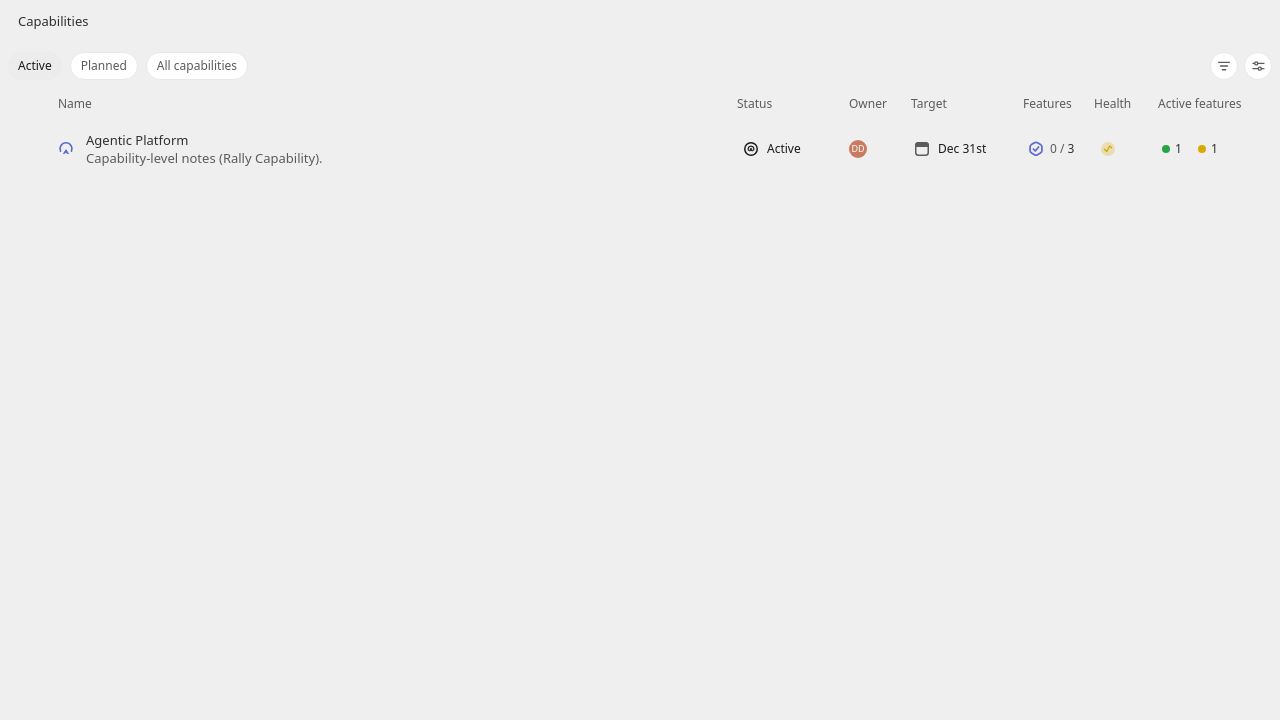
Test: Initiative shows only as this grouping: the same screen fails the scan without allowing it
Click the tab "All capabilities".
click(197, 66)  # box [146, 52, 248, 80]
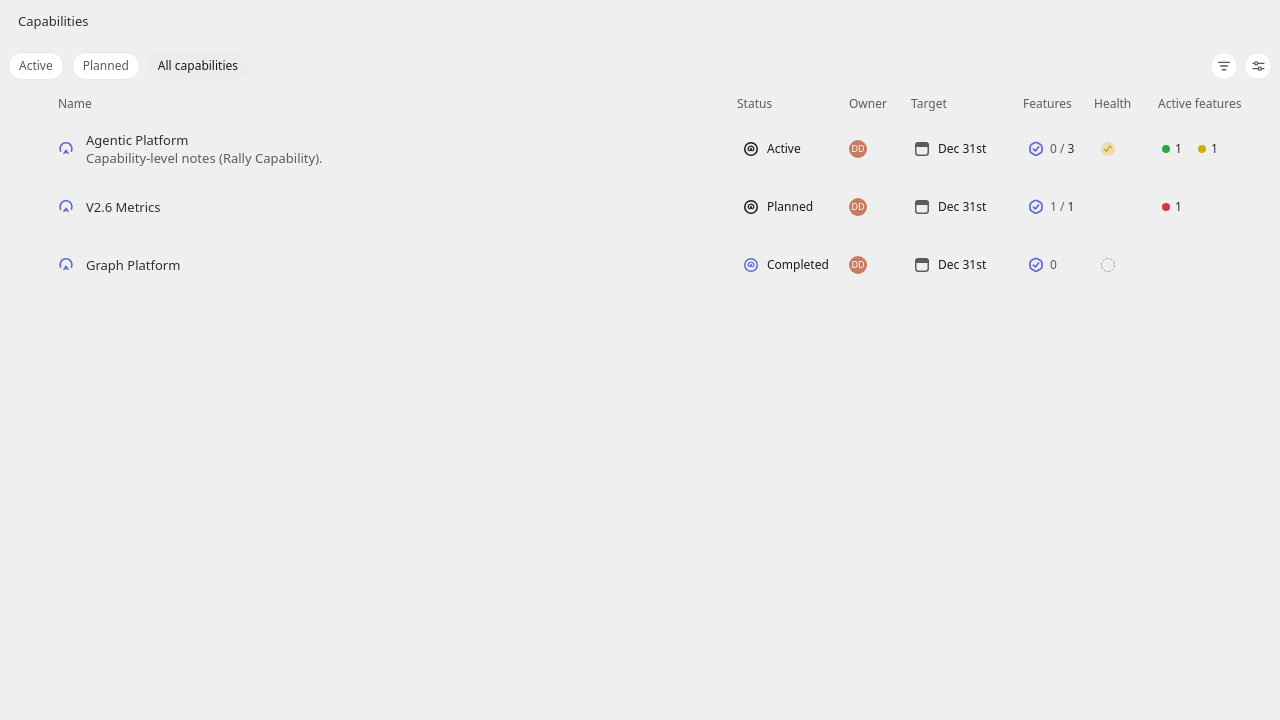
Click the button named "Display options".
click(1258, 66)  # box [1244, 52, 1272, 80]
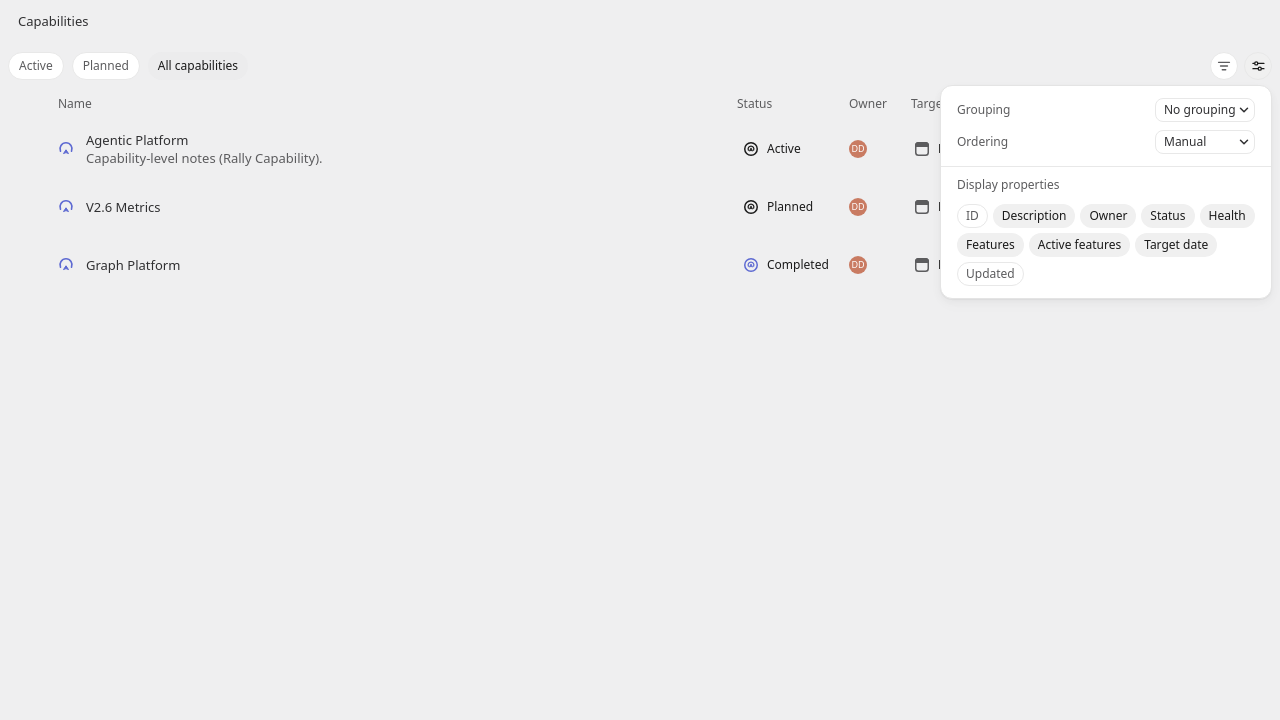
Click the button with aria-label "Grouping: No grouping".
click(1205, 110)  # box [1155, 98, 1255, 122]
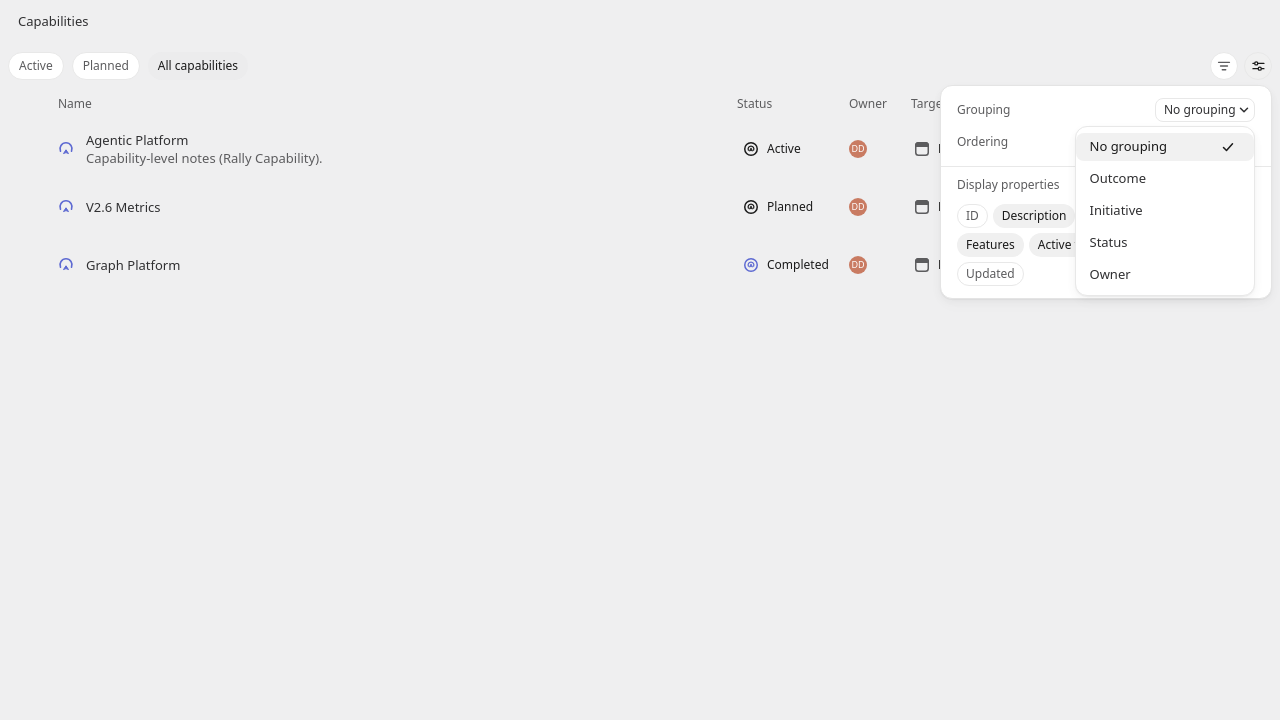
Click the menu item "Initiative".
click(1116, 210)  # box [1090, 201, 1143, 219]
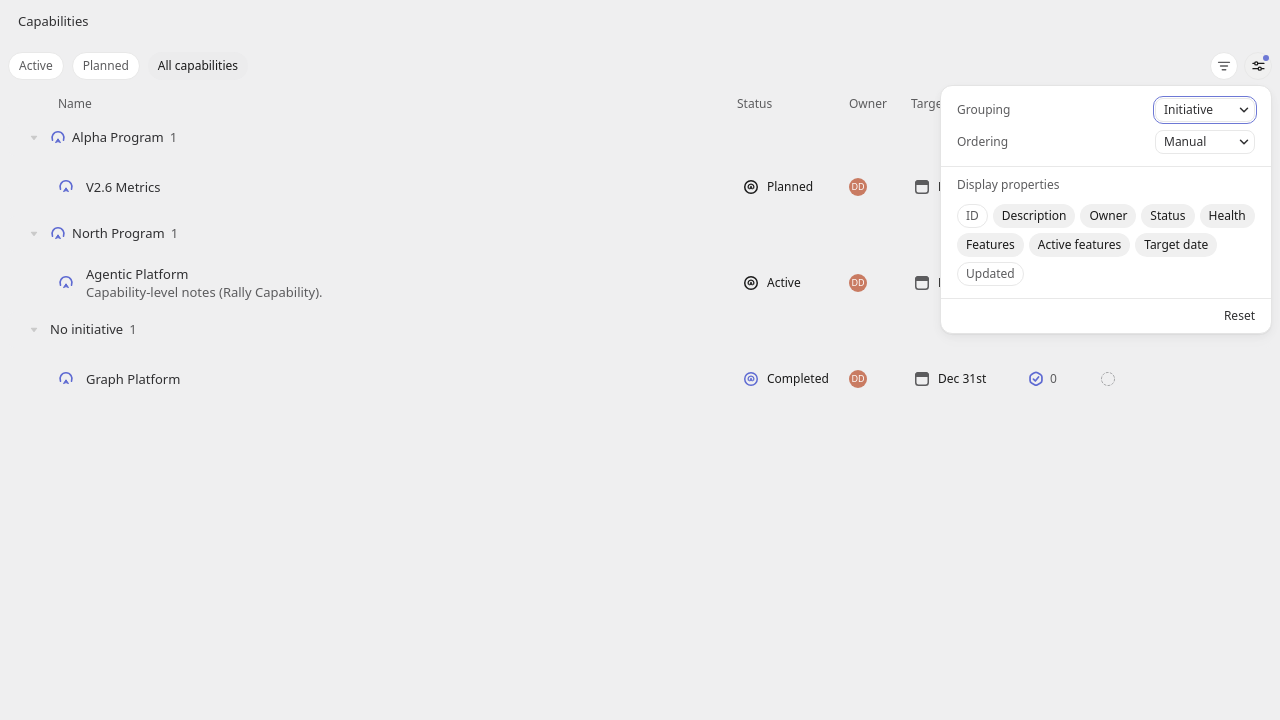
Check: the element "No initiative" is shown, box [0, 312, 1279, 408]
